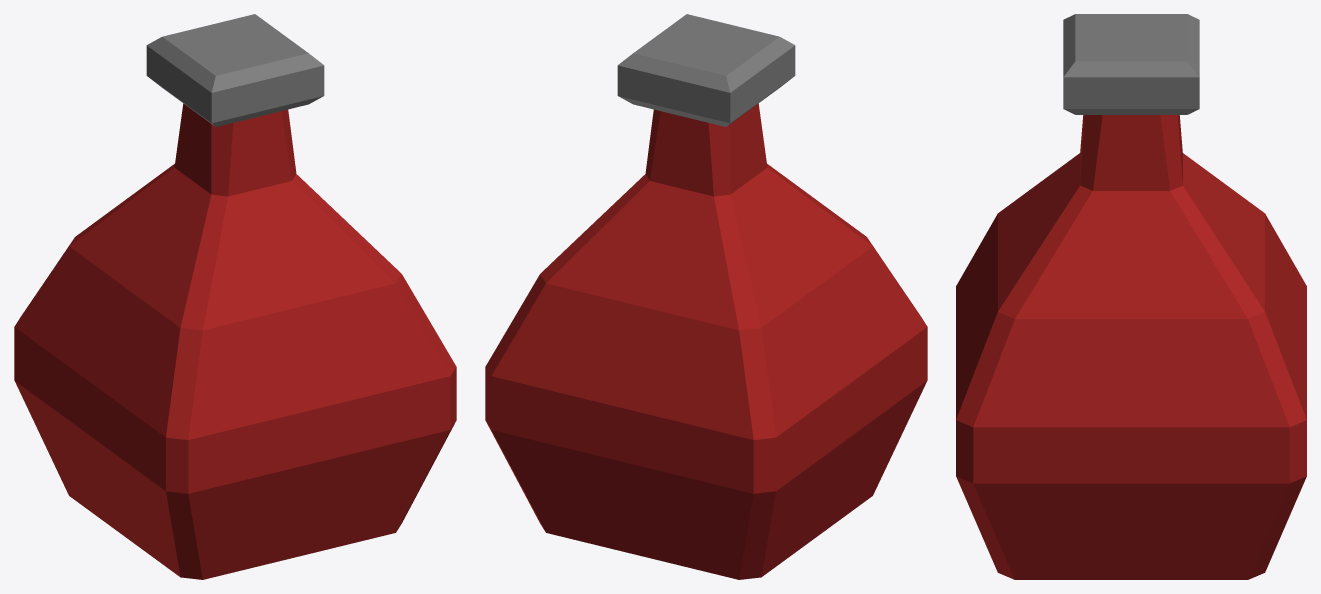
The model's file is potion.glb.
3 renders of one model, left to right at view 1: azimuth 30°, elevation 25°; view 2: azimuth 150°, elevation 25°; view 3: azimuth 270°, elevation 25°, orthographic. The views are drawn at different scales.
Parts seen in each view (by area): view 1: Cube; view 2: Cube; view 3: Cube.
Boxes of the visible parts, x1=… form: Cube: x1=14, y1=14, x2=456, y2=579; Cube: x1=485, y1=14, x2=927, y2=579; Cube: x1=956, y1=14, x2=1306, y2=579.
Bounding box in the file's own units: 2 × 3.06 × 2.
